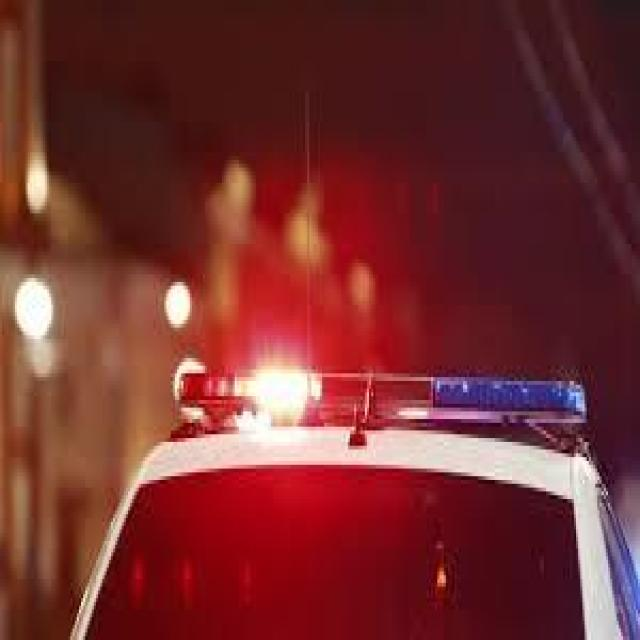ambulance: (170, 335, 600, 460)
